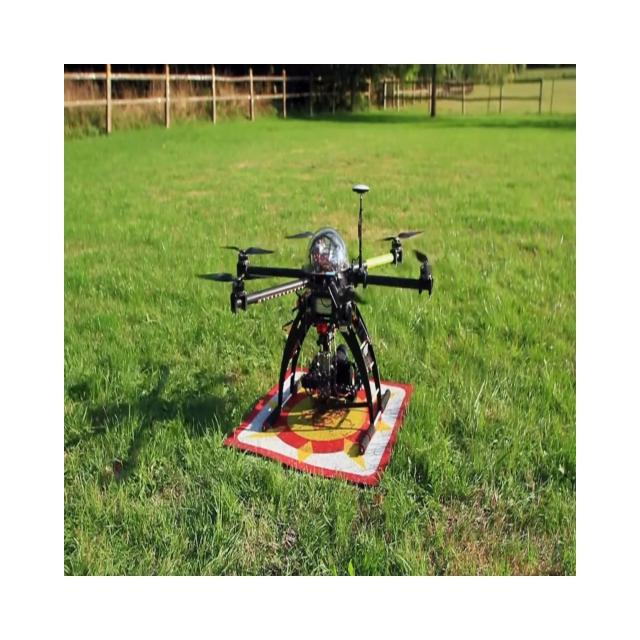drone: (195, 182, 434, 457)
